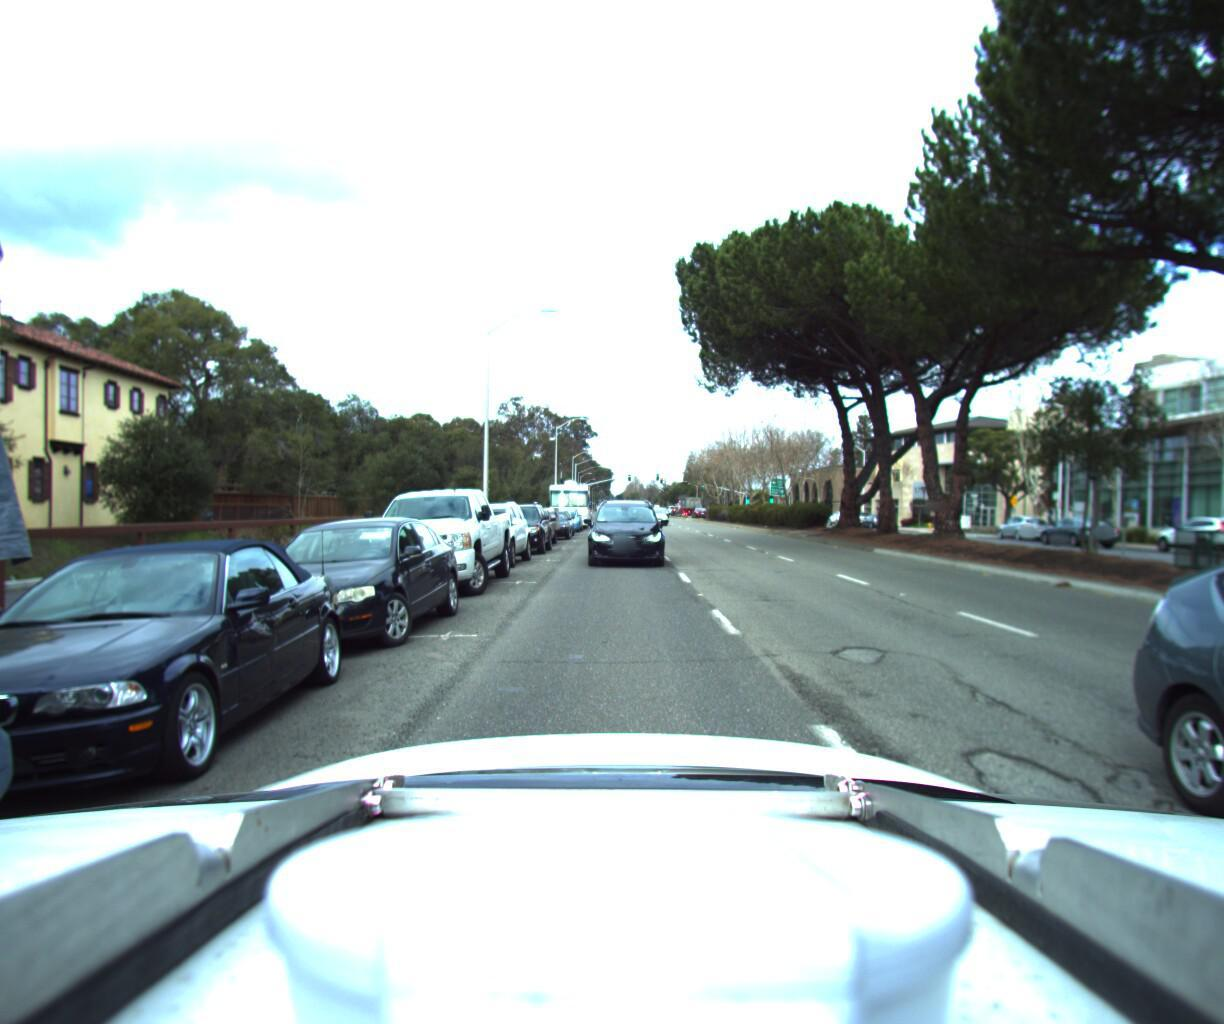bus: (546, 475, 590, 521)
car: (205, 507, 473, 664), (361, 478, 516, 597), (441, 490, 530, 567), (585, 491, 662, 564), (488, 493, 553, 554), (1147, 508, 1224, 552), (1020, 508, 1108, 539), (502, 500, 559, 543), (992, 508, 1053, 535), (532, 501, 571, 536), (549, 499, 583, 527), (641, 500, 666, 520)
